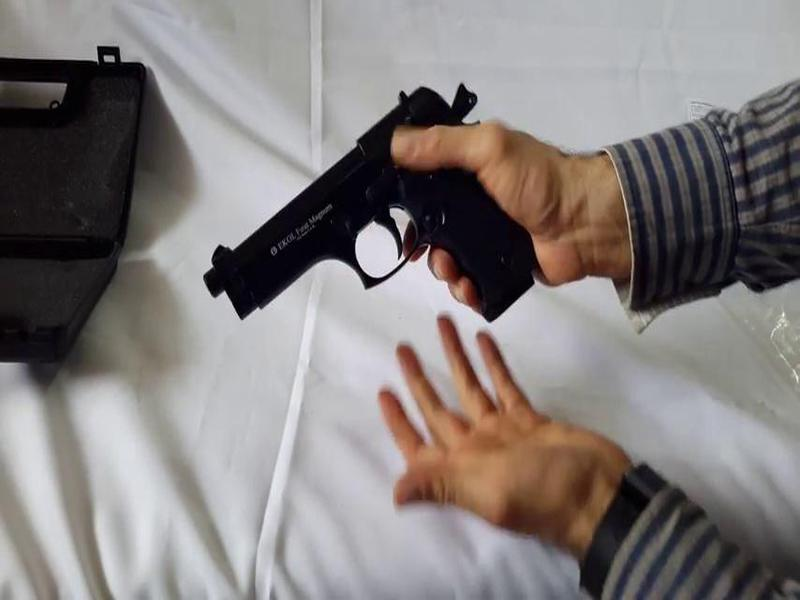Pistola: (188, 91, 544, 354)
